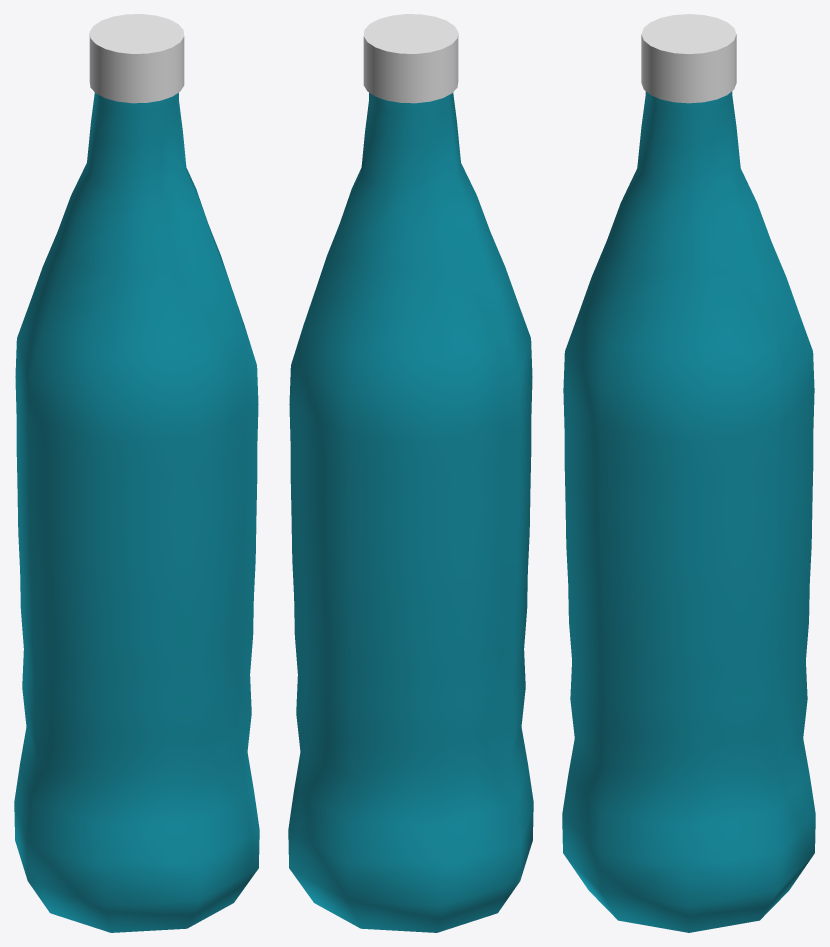
The model's file is Botella.fbx.
3 views of the same model, side by side, from view 1: azimuth 30°, elevation 25°; view 2: azimuth 150°, elevation 25°; view 3: azimuth 270°, elevation 25° (orthographic).
Parts seen in each view (by area): view 1: Botella, Tapa; view 2: Botella, Tapa; view 3: Botella, Tapa.
Boxes of the visible parts, bbox=[...] form: Botella: bbox=[14, 92, 259, 932]; Tapa: bbox=[89, 14, 184, 103]; Botella: bbox=[288, 92, 533, 932]; Tapa: bbox=[363, 14, 458, 103]; Botella: bbox=[562, 91, 815, 932]; Tapa: bbox=[641, 14, 736, 103].
Bounding box in the file's own units: 1.26 × 4.69 × 1.26.
